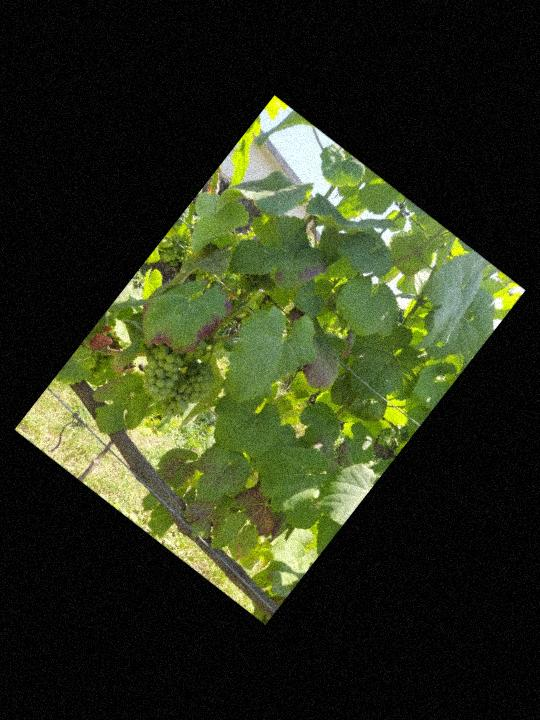grape: (129, 318, 213, 407), (156, 356, 224, 431)
